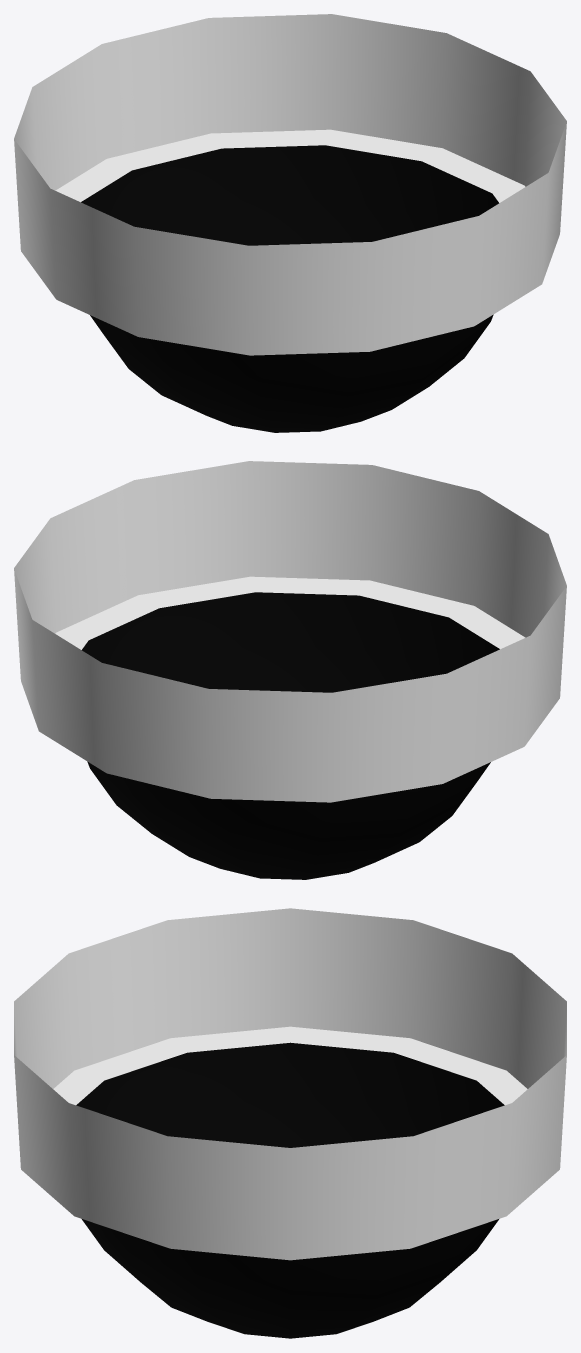
Rendered from cctv.fbx.
3 views of the same model, one above another, from view 1: azimuth 30°, elevation 25°; view 2: azimuth 150°, elevation 25°; view 3: azimuth 270°, elevation 25° (orthographic). The views are drawn at different scales.
Parts seen in each view (by area): view 1: cctv; view 2: cctv; view 3: cctv.
Part boxes in pixels (left/top/right/bottom): cctv: left=14, top=14, right=566, bottom=432; cctv: left=14, top=461, right=566, bottom=879; cctv: left=14, top=908, right=566, bottom=1338.
Bounding box in the file's own units: 31.08 × 17.38 × 30.3.
Materials: 1 (1 with a texture image).
